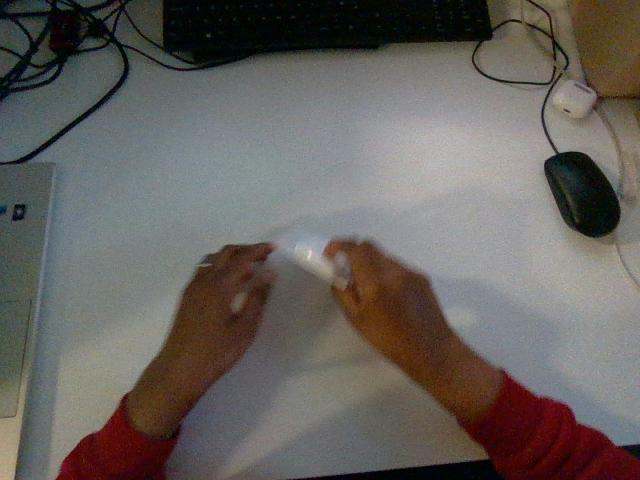gauze: (275, 228, 349, 289)
